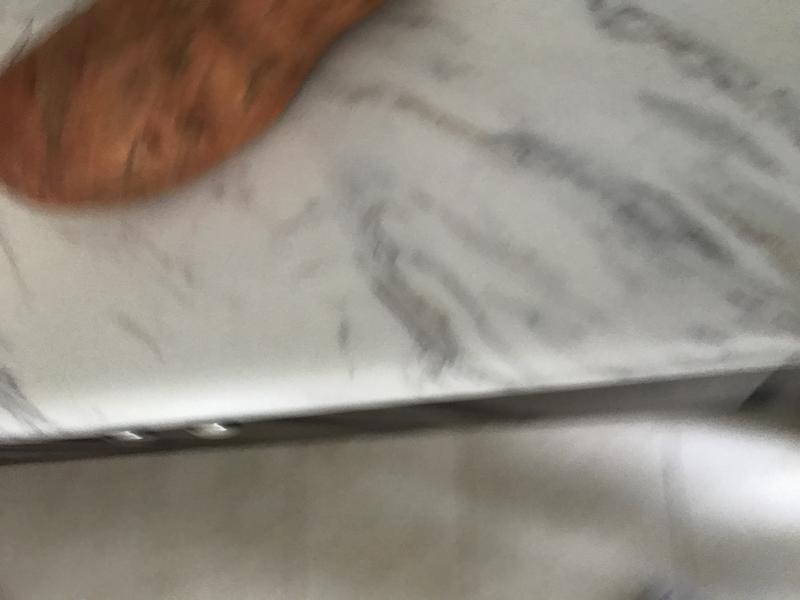sweet_potato: (1, 1, 424, 229)
